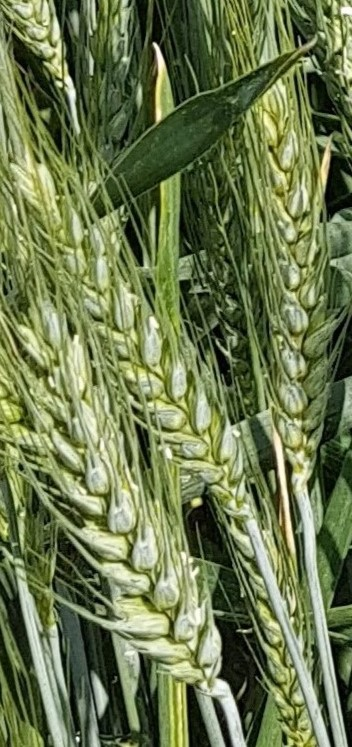Healthy Wheat: (14, 314, 218, 683)
